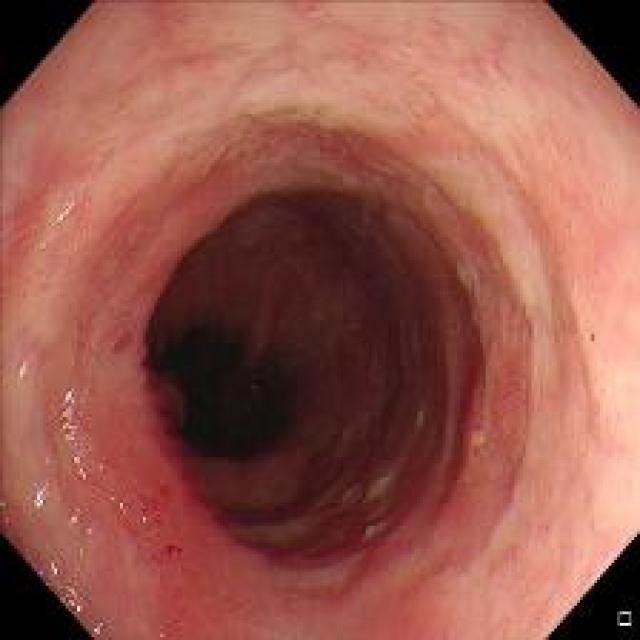color misalignment: (61, 390, 91, 480), (41, 560, 85, 612), (66, 502, 98, 539), (32, 479, 49, 512), (12, 359, 29, 379), (0, 492, 10, 525), (88, 621, 104, 639)
contrast: (168, 322, 310, 468)
specularity: (60, 384, 96, 492), (40, 559, 82, 614), (65, 506, 95, 536), (49, 201, 79, 226), (36, 478, 49, 514), (108, 495, 126, 514), (38, 234, 56, 250), (15, 359, 29, 379), (90, 621, 102, 638)
